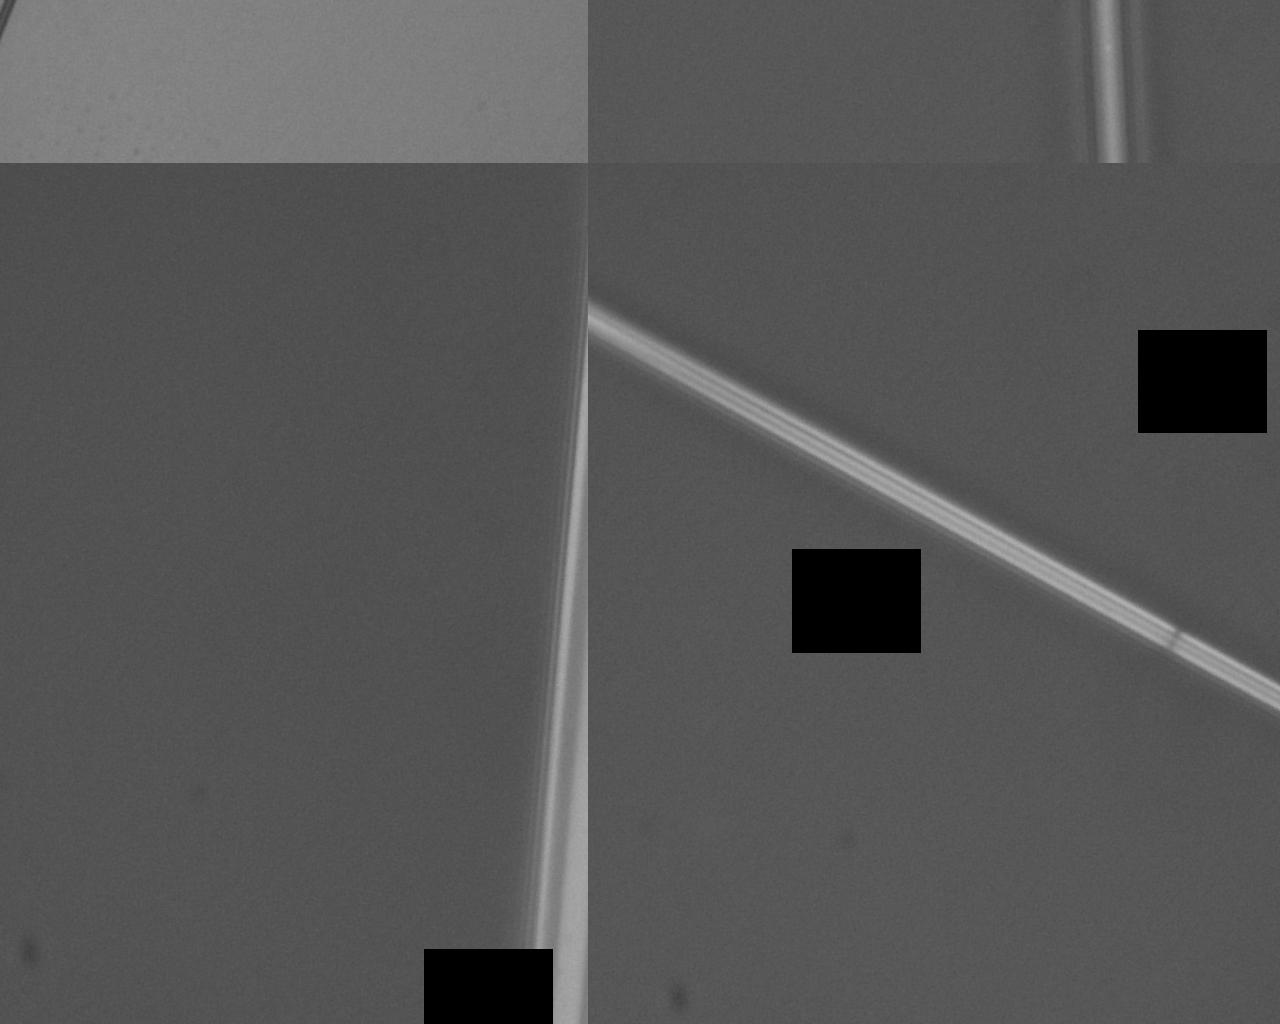fiber: (279, 0, 871, 1024)
